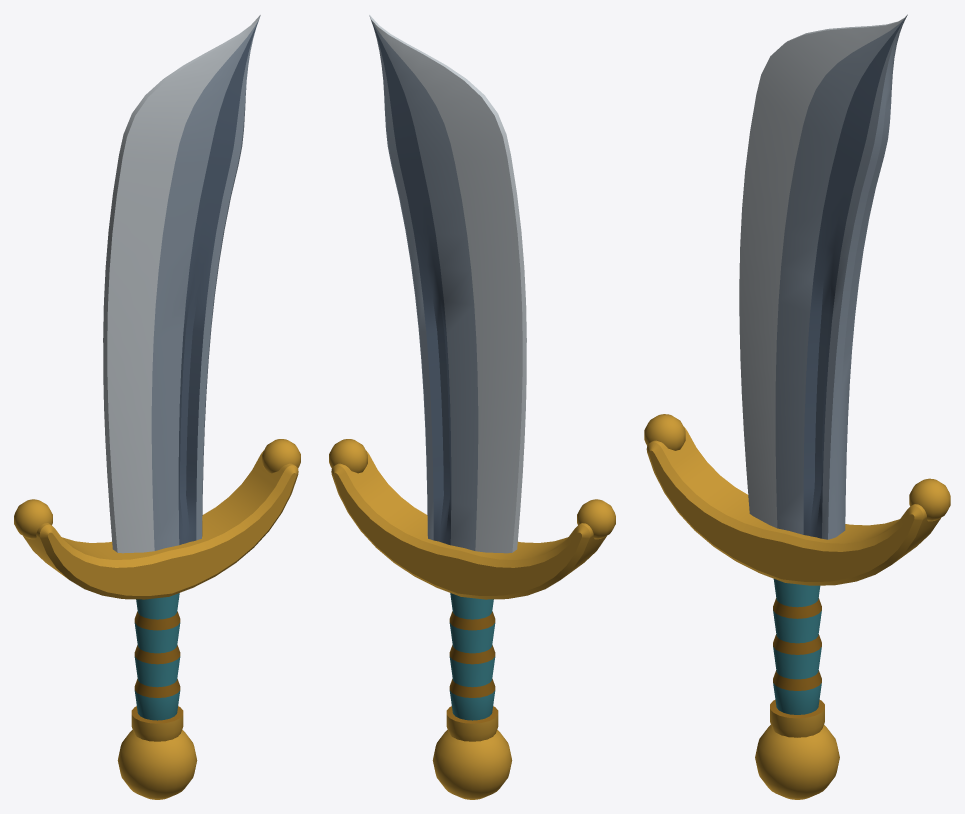
Rendered from Scimitar_15.glb.
3 renders of one model, left to right at view 1: azimuth 30°, elevation 25°; view 2: azimuth 150°, elevation 25°; view 3: azimuth 330°, elevation 25°, orthographic. The views are drawn at different scales.
Visible parts, largest first — view 1: Scimitar_15; view 2: Scimitar_15; view 3: Scimitar_15.
Part boxes in pixels (<box>): Scimitar_15: <box>14,15,300,799</box>; Scimitar_15: <box>329,15,615,799</box>; Scimitar_15: <box>644,14,950,799</box>.
Bounding box in the file's own units: 2.44 × 6.26 × 0.596.
